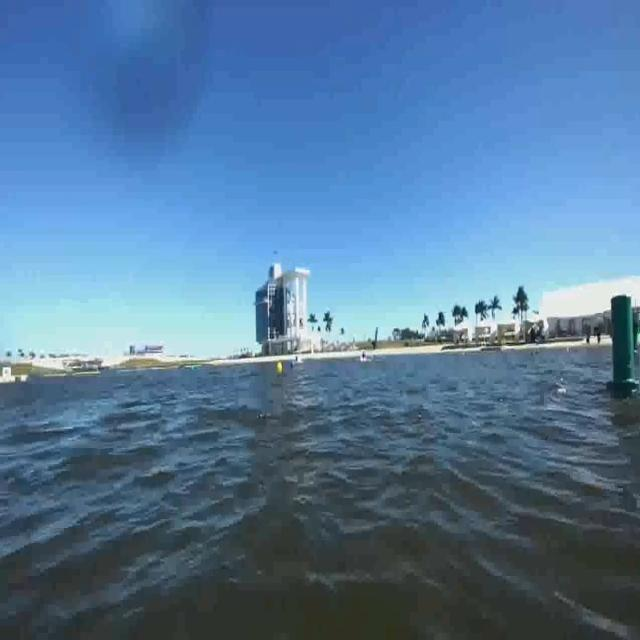green-column-buoy: (605, 294, 639, 398)
yellow-buoy: (276, 359, 285, 376)
